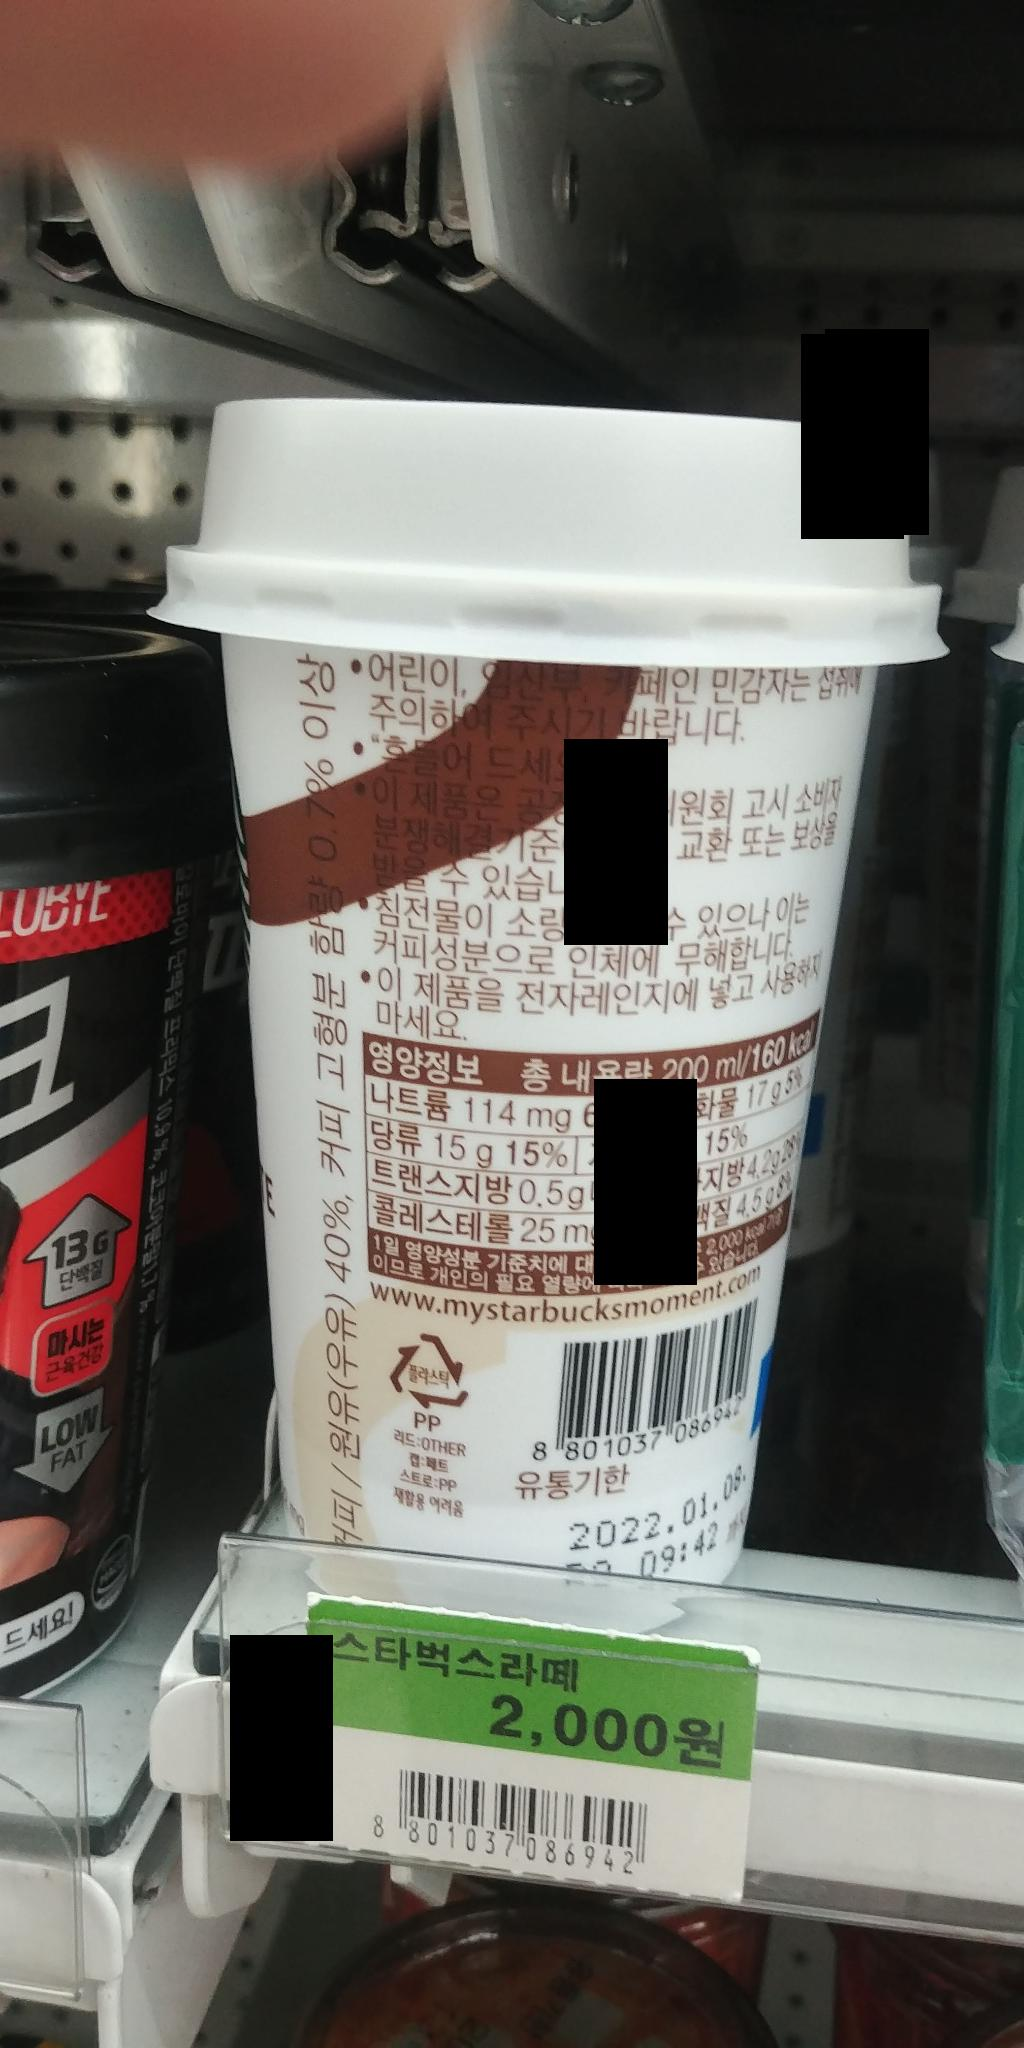starbucks_cafelatte: (162, 376, 961, 1651)
